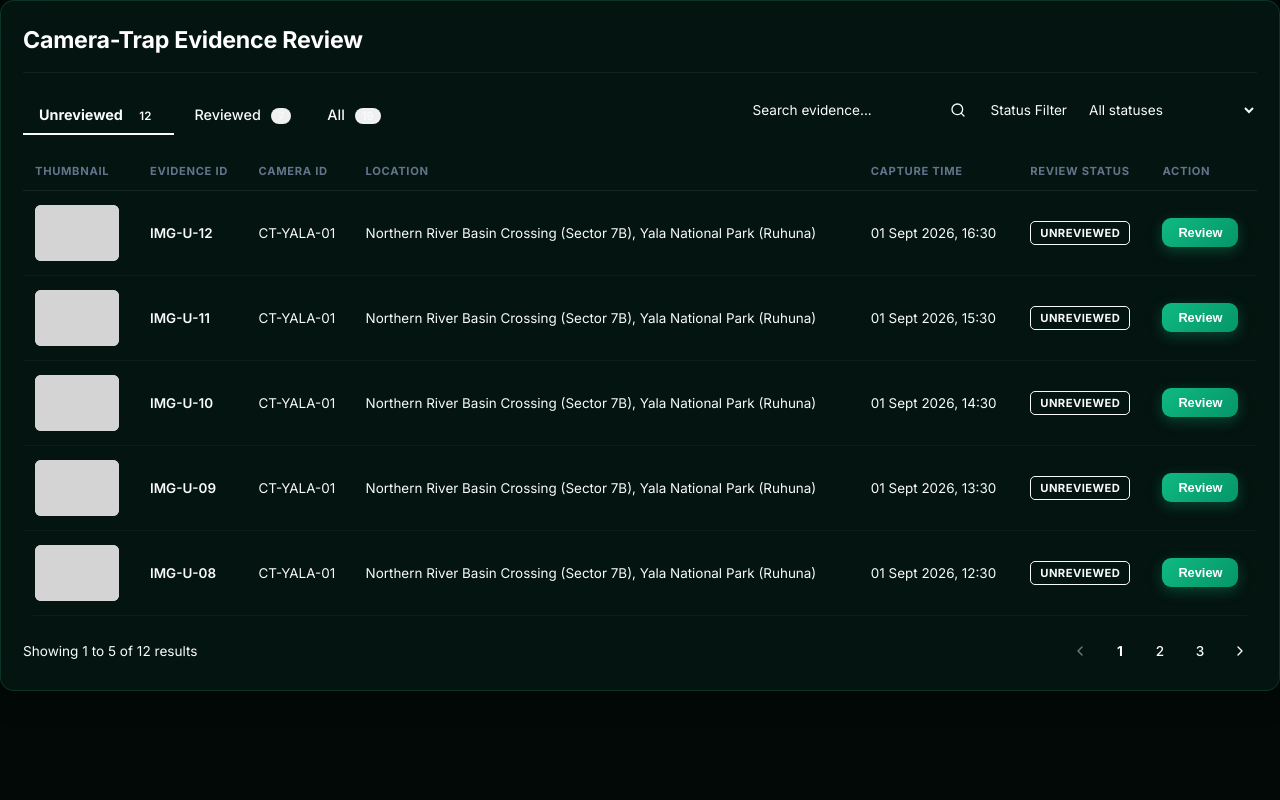
Test: EvidenceReviewQueue - pagination › changing the search resets to page 1
Click the button named "Page 2": (1160,651) [1143,634,1177,668]
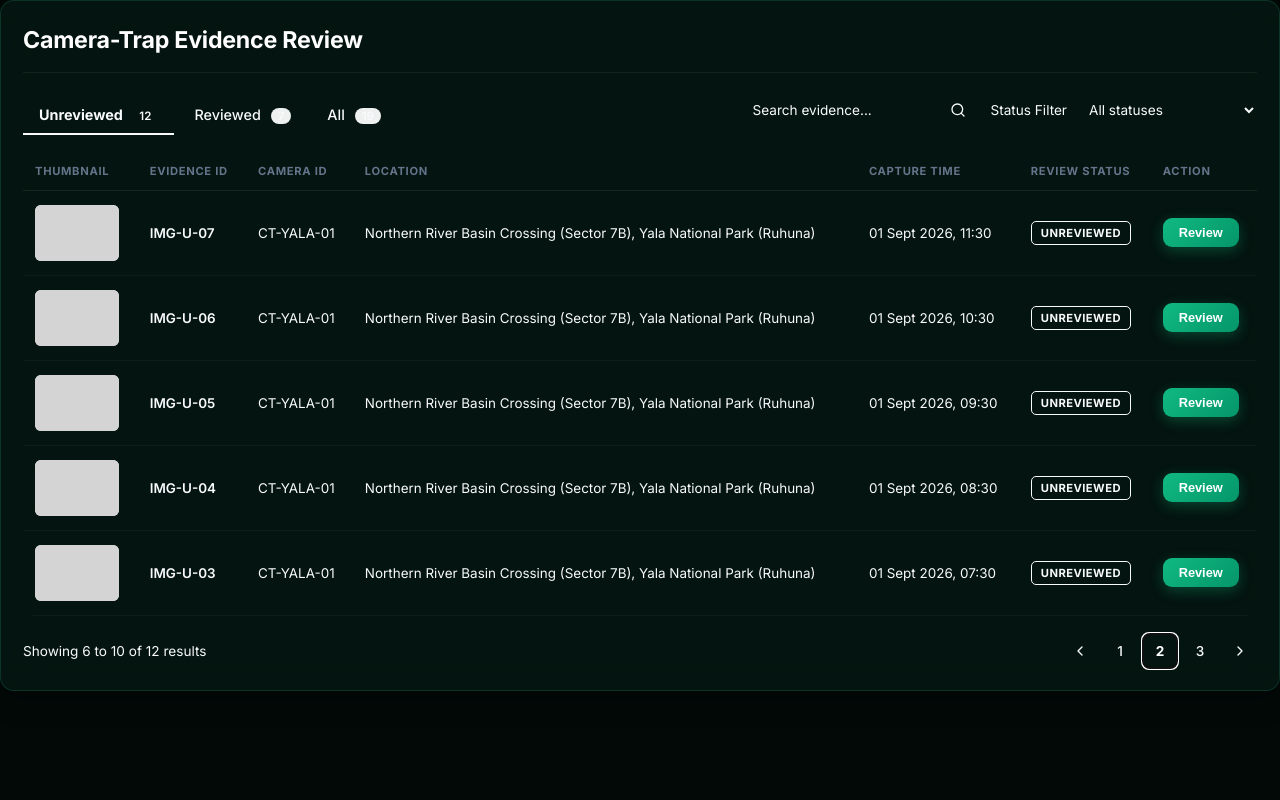
In the search field labelled "Search evidence": (846,110) [750,99,942,121], type "IMG-U"
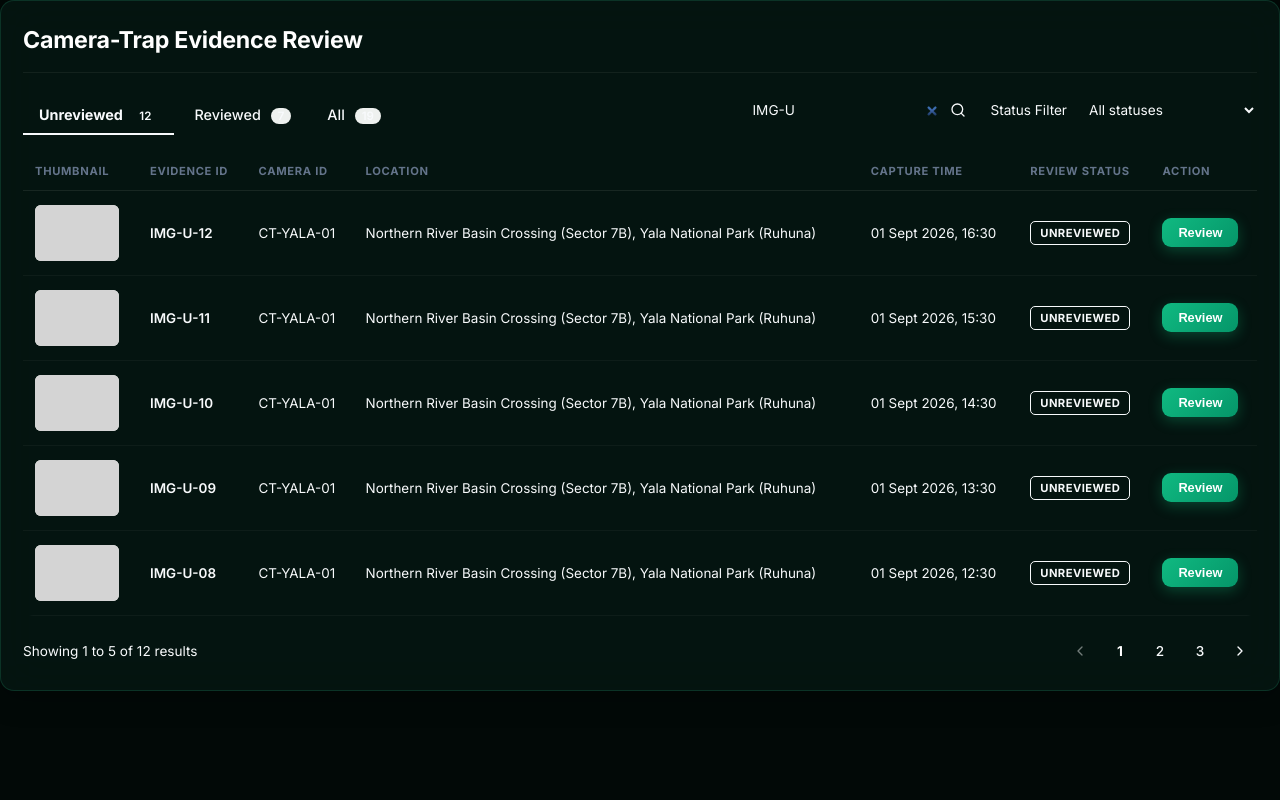
expect the text "Showing 1 to 5 of 12 results" is shown: met, box [23,641,198,661]
expect the text with class "er-code" reads "IMG-U-12": met, box [150,225,213,241]
